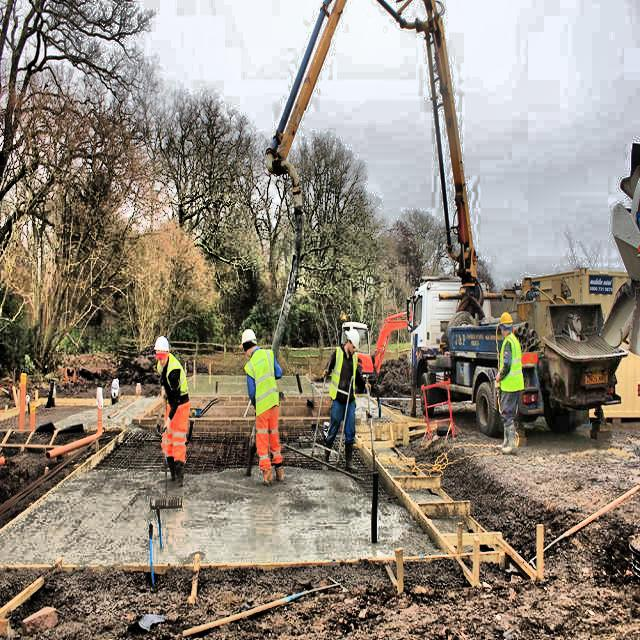person: (234, 326, 292, 489), (148, 332, 200, 492), (320, 322, 366, 476), (495, 306, 527, 460)
